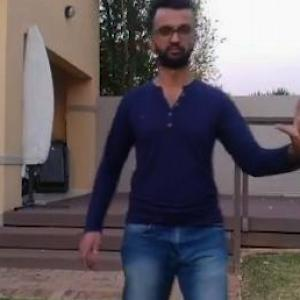land_hand: (268, 86, 299, 168)
